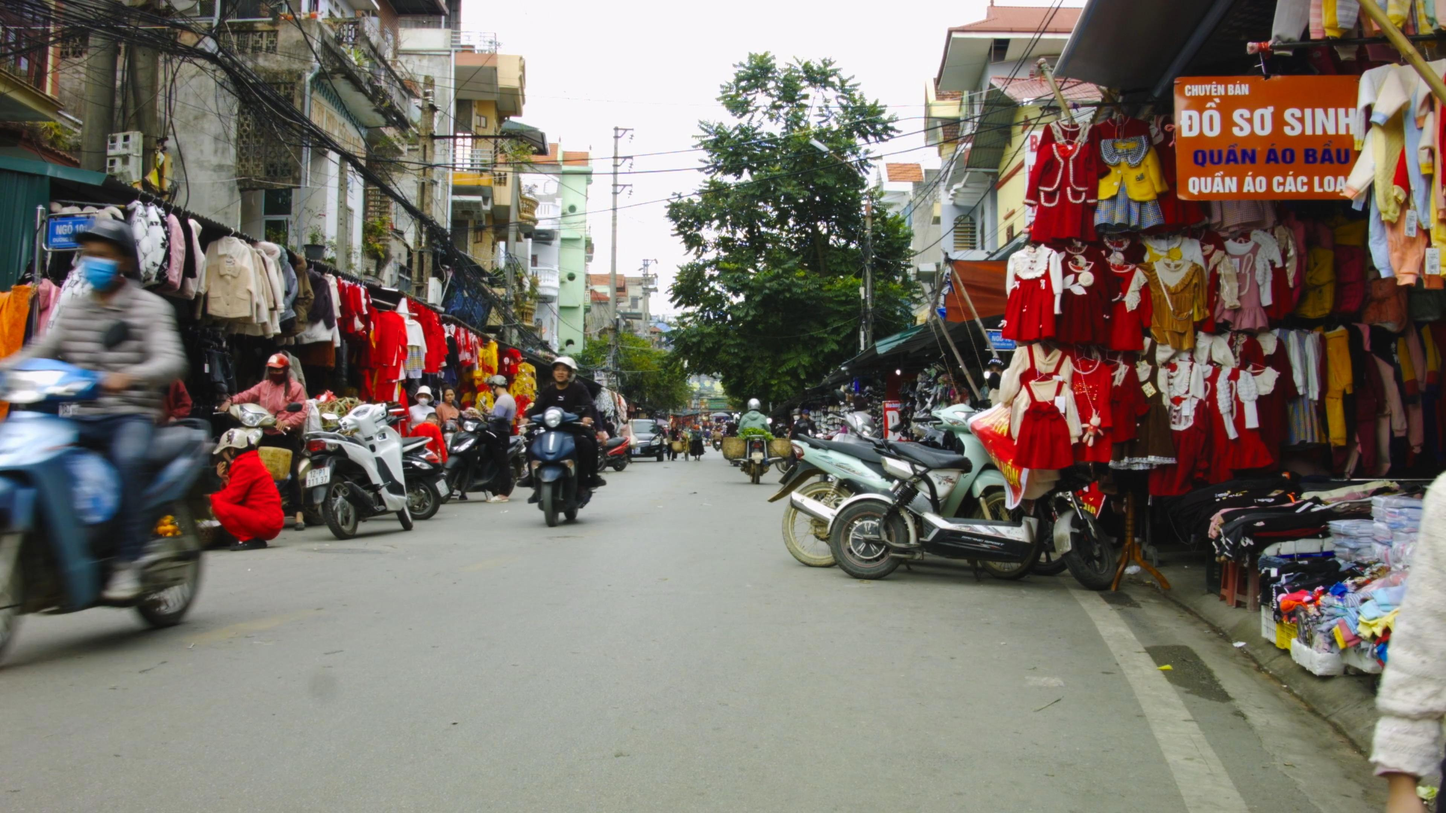driver: (0, 217, 213, 669), (212, 352, 324, 531), (517, 357, 607, 527), (723, 398, 791, 485)
helmet: (73, 218, 138, 293), (212, 429, 252, 464), (265, 353, 290, 385), (550, 357, 573, 385), (486, 375, 508, 398), (748, 398, 761, 411)
no-helmet: (414, 386, 434, 406), (443, 386, 455, 404)
